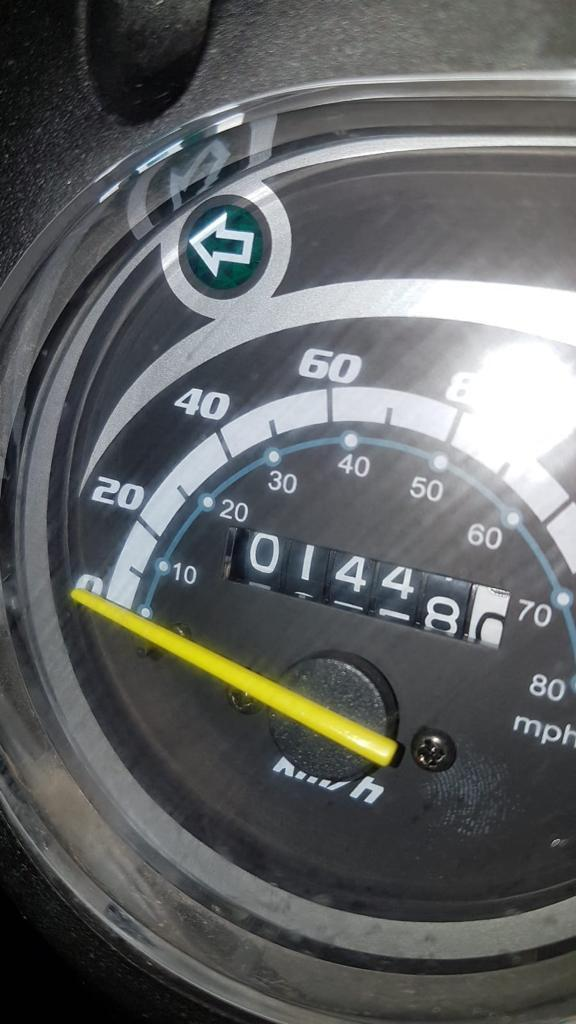0: (246, 530, 283, 576), (469, 608, 506, 647), (485, 524, 503, 551)
1: (295, 538, 319, 584)
4: (330, 550, 370, 594), (377, 563, 418, 603)
6: (466, 521, 484, 547)
8: (421, 593, 462, 638)
odometer: (215, 519, 514, 653)
